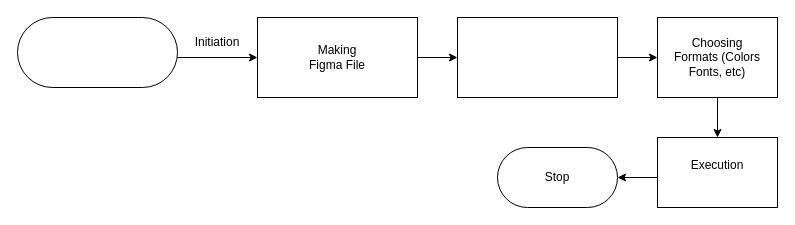
Image size: 795x225. Some labels were removed from this diagram. The shapes that lost their labels are listed below. From the top down, each one's centre as x and y in pixels, then its label:
[97,52]: Start
[537,57]: Wireframe
